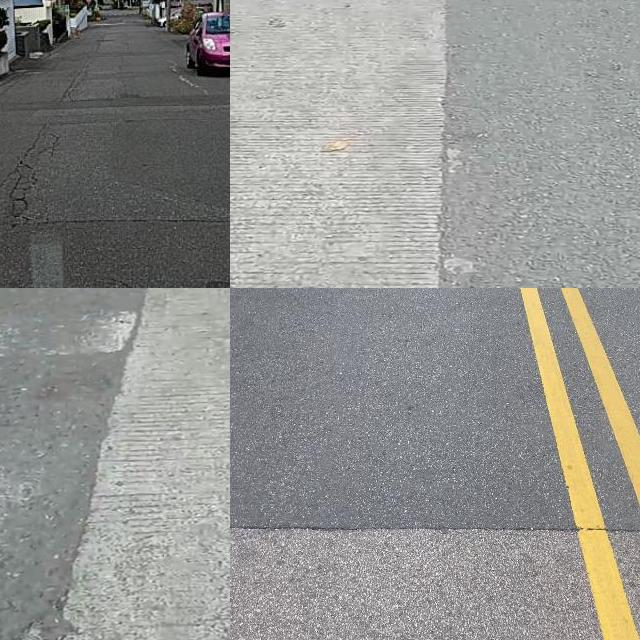Sambungan: (230, 288, 640, 533), (47, 288, 230, 640), (230, 0, 441, 288)
